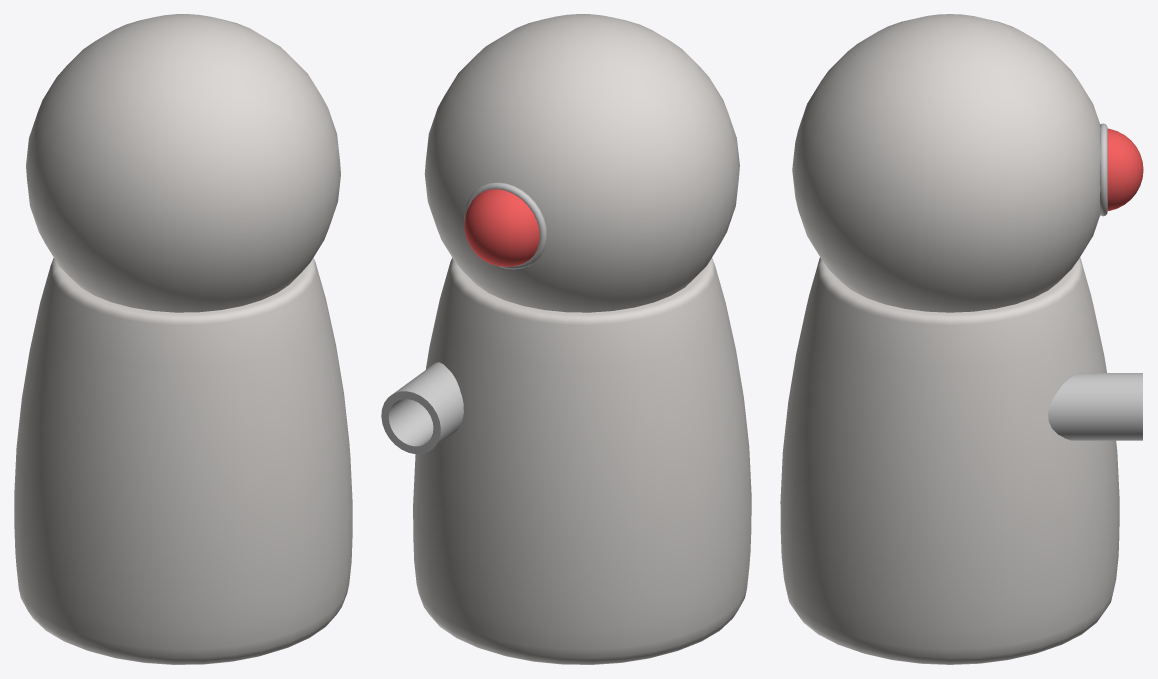
The model's file is robot.fbx.
3 renders of one model, left to right at view 1: azimuth 30°, elevation 25°; view 2: azimuth 150°, elevation 25°; view 3: azimuth 270°, elevation 25°, orthographic.
Parts seen in each view (by area): view 1: character; view 2: character; view 3: character.
Part boxes in pixels (left/top/right/bottom): character: left=14, top=14, right=352, bottom=664; character: left=381, top=14, right=751, bottom=664; character: left=780, top=14, right=1143, bottom=664.
Size of the model in its own units: 64.35 by 120 by 68.86.
